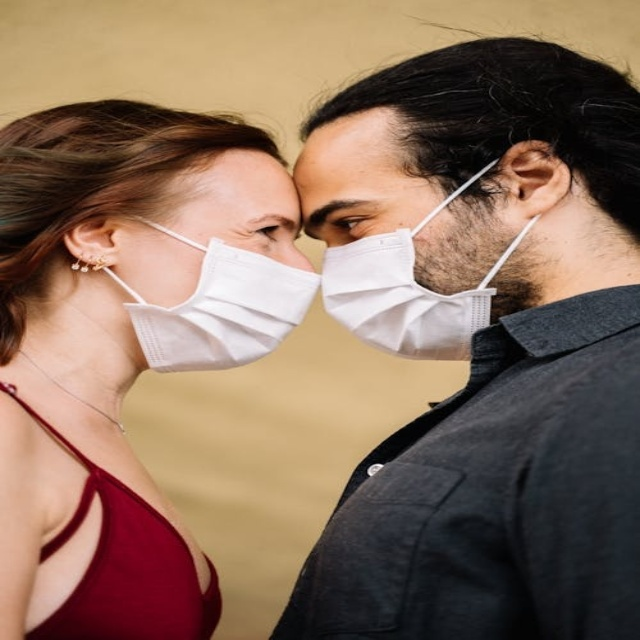Mascara: (320, 160, 538, 361), (103, 214, 319, 373)
Sin_gafas: (300, 185, 410, 235), (184, 199, 303, 237)
